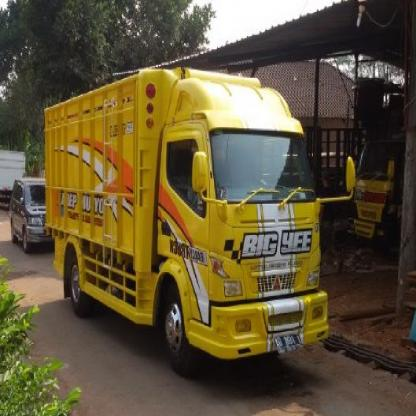truck: (43, 58, 356, 377)
